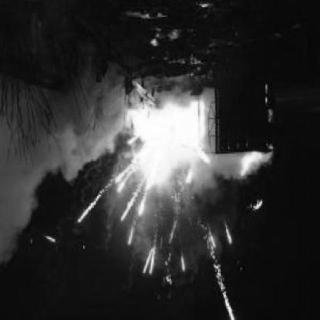Fire: (120, 97, 208, 186)
